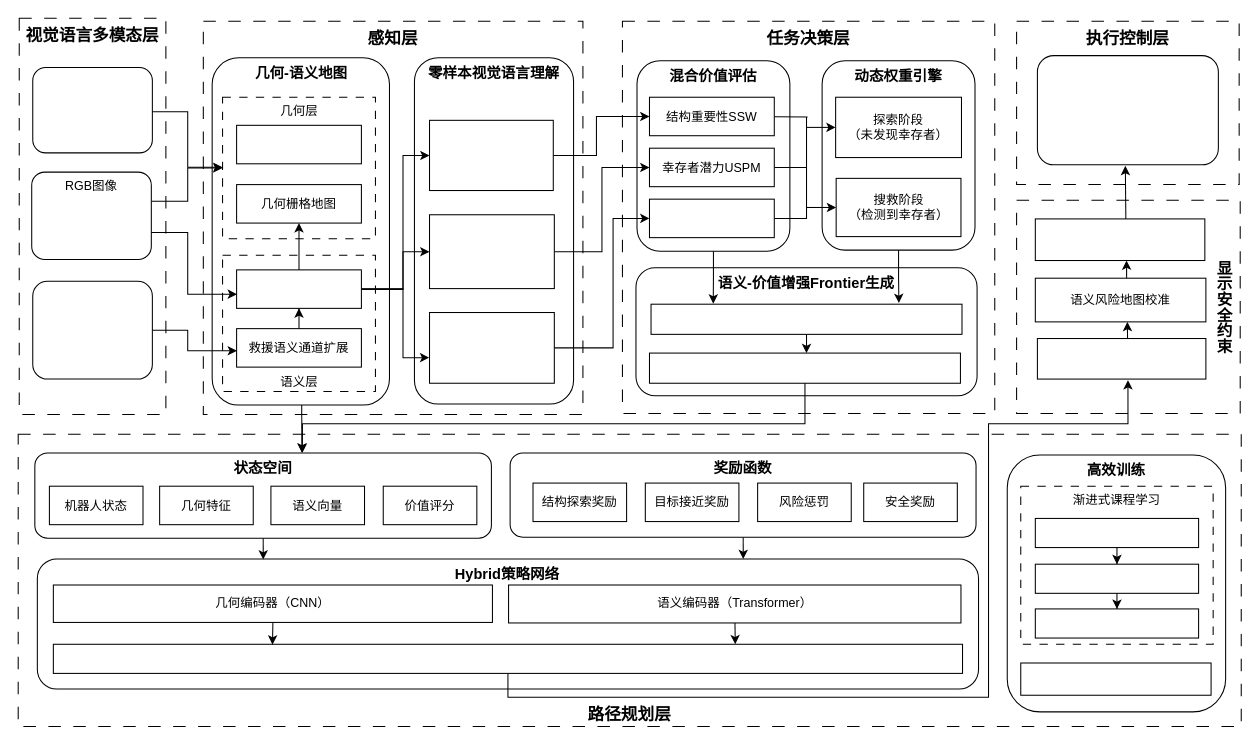
Image size: 1259x745. Some labels were removed from this diagram. The shapes that lost their labels are listed below. From the top down, each one's centre as x and y in pixels, then its label:
At (92,110): "深度图".
At (1127,110): "机器人".
At (298,144): "$$6DoF位姿估计$$".
At (490,155): "结构语义分类 （走廊/房间/坍塌区）".
At (711,218): "风险指数RI".
At (491,251): "幸存者概率热图 $$P_{\text{survivor}}(x,y) \in [0,1] $$".
At (1119,239): "安全动作输出".
At (298,288): "视觉语言大模型CLIP".
At (92,329): "开放语义词汇 “trapped human”".
At (806,318): "FrontierScore".
At (491,347): "风险区域检测 (不稳定墙体/积水区)".
At (804,367): "选择Top-3候选点".
At (1121,358): "生成规避动作".
At (1116,532): "几何阶段".
At (1116,578): "语义阶段".
At (1116,623): "风险阶段".
At (507,658): "特征融合".
At (1115,678): "分布式训练".
